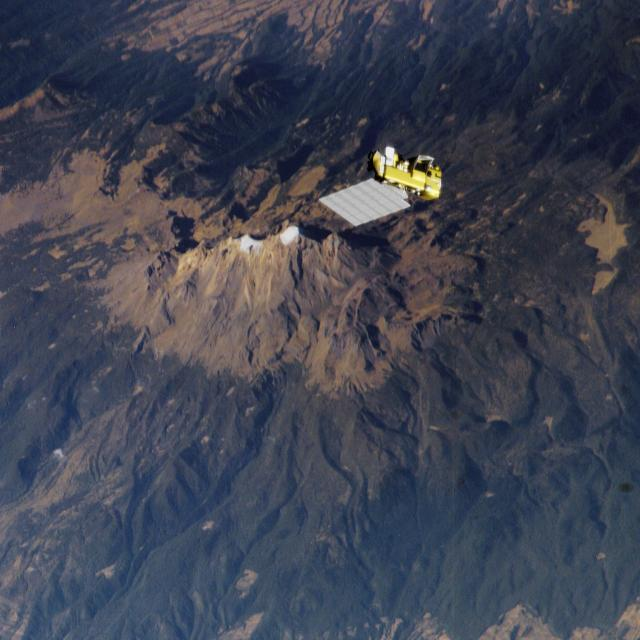satellite: (319, 150, 463, 238)
